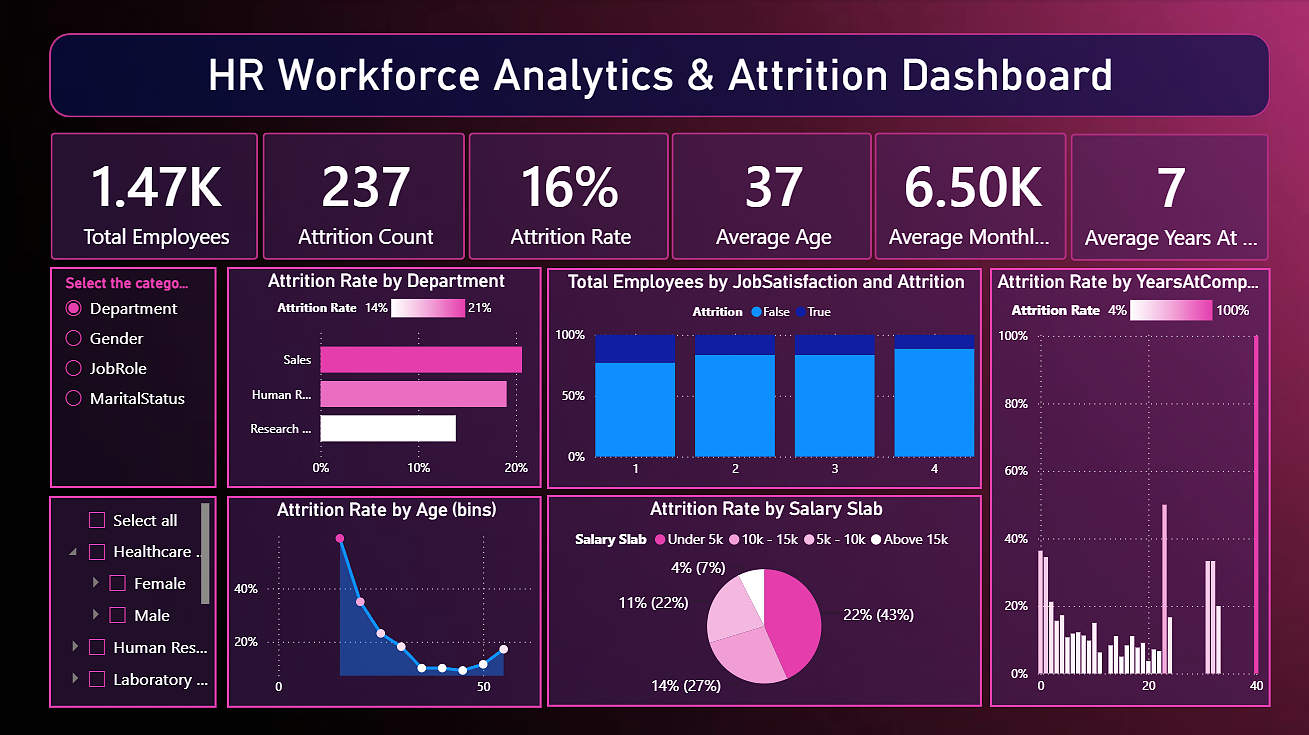

The dashboard page shown, as its layout file describes it:
{"tool":"powerbi","page":{"name":"Page 1","canvas":[1280,720],"ordinal":0},"visuals":[{"type":"shape","box":[51.5,33.1,1188.3,82.3],"z":0},{"type":"cardVisual","fields":{"Data":["vw_HR_Clean.Total Employees"]},"box":[36.4,115,251.1,156.4],"z":1000},{"type":"cardVisual","fields":{"Data":["vw_HR_Clean.Attrition Rate %Measure"]},"box":[442.6,115,244.3,156.4],"z":2000},{"type":"cardVisual","fields":{"Data":["vw_HR_Clean.Average Age"]},"box":[640.2,115,244.3,156.4],"z":3000},{"type":"cardVisual","fields":{"Data":["vw_HR_Clean.Attrition Count"]},"box":[242.3,115,247,156.4],"z":4000},{"type":"cardVisual","fields":{"Data":["vw_HR_Clean.Average Monthly Income"]},"box":[837.8,115,236,156.4],"z":5000},{"type":"cardVisual","fields":{"Data":["vw_HR_Clean.Average Years At Company"]},"box":[1027.8,115.3,242.9,156.4],"z":6000},{"type":"clusteredBarChart","fields":{"Category":["vw_HR_Clean.Department"],"Y":["vw_HR_Clean.Attrition Rate"]},"box":[224.4,260.5,306,215.4],"z":7000},{"type":"slicer","fields":{"Values":["Select the category.Select the category"]},"box":[52.9,260.5,161.9,215.4],"z":8000},{"type":"hundredPercentStackedColumnChart","fields":{"Category":["vw_HR_Clean.JobSatisfaction"],"Series":["vw_HR_Clean.Attrition"],"Y":["vw_HR_Clean.Total Employees"]},"box":[535.9,261.9,422.6,215.4],"z":9000},{"type":"areaChart","fields":{"Category":["vw_HR_Clean.Age (bins)"],"Y":["vw_HR_Clean.Attrition Rate"]},"box":[224.4,483.2,306,205.8],"z":10000},{"type":"clusteredColumnChart","fields":{"Category":["vw_HR_Clean.YearsAtCompany"],"Y":["vw_HR_Clean.Attrition Rate"]},"box":[966.8,261.9,273.1,426.8],"z":11000},{"type":"pieChart","fields":{"Category":["vw_HR_Clean.Salary Slab"],"Y":["vw_HR_Clean.Attrition Rate"]},"box":[535.9,482.8,422.6,205.8],"z":12000},{"type":"slicer","fields":{"Values":["vw_HR_Clean.JobRole","vw_HR_Clean.Gender","vw_HR_Clean.Department","vw_HR_Clean.Education"]},"box":[51.5,483.2,163.3,205.8],"z":13000},{"type":"textbox","box":[72.9,43.8,1146.7,72],"z":14000}]}

Visuals, with their boxes in screenshot pixels (x1, y1, x2, y2), scaled from the page's 1280x720 canvas onto the 1309x735 screenshot:
shape: 53/34/1268/118
cardVisual - vw_HR_Clean.Total Employees: 37/117/294/277
cardVisual - vw_HR_Clean.Attrition Rate %Measure: 453/117/702/277
cardVisual - vw_HR_Clean.Average Age: 655/117/905/277
cardVisual - vw_HR_Clean.Attrition Count: 248/117/500/277
cardVisual - vw_HR_Clean.Average Monthly Income: 857/117/1098/277
cardVisual - vw_HR_Clean.Average Years At Company: 1051/118/1299/277
clusteredBarChart - vw_HR_Clean.Department x vw_HR_Clean.Attrition Rate: 229/266/542/486
slicer - Select the category.Select the category: 54/266/220/486
hundredPercentStackedColumnChart - vw_HR_Clean.JobSatisfaction x vw_HR_Clean.Attrition: 548/267/980/487
areaChart - vw_HR_Clean.Age (bins) x vw_HR_Clean.Attrition Rate: 229/493/542/703
clusteredColumnChart - vw_HR_Clean.YearsAtCompany x vw_HR_Clean.Attrition Rate: 989/267/1268/703
pieChart - vw_HR_Clean.Salary Slab x vw_HR_Clean.Attrition Rate: 548/493/980/703
slicer - vw_HR_Clean.JobRole x vw_HR_Clean.Gender: 53/493/220/703
textbox: 75/45/1247/118
